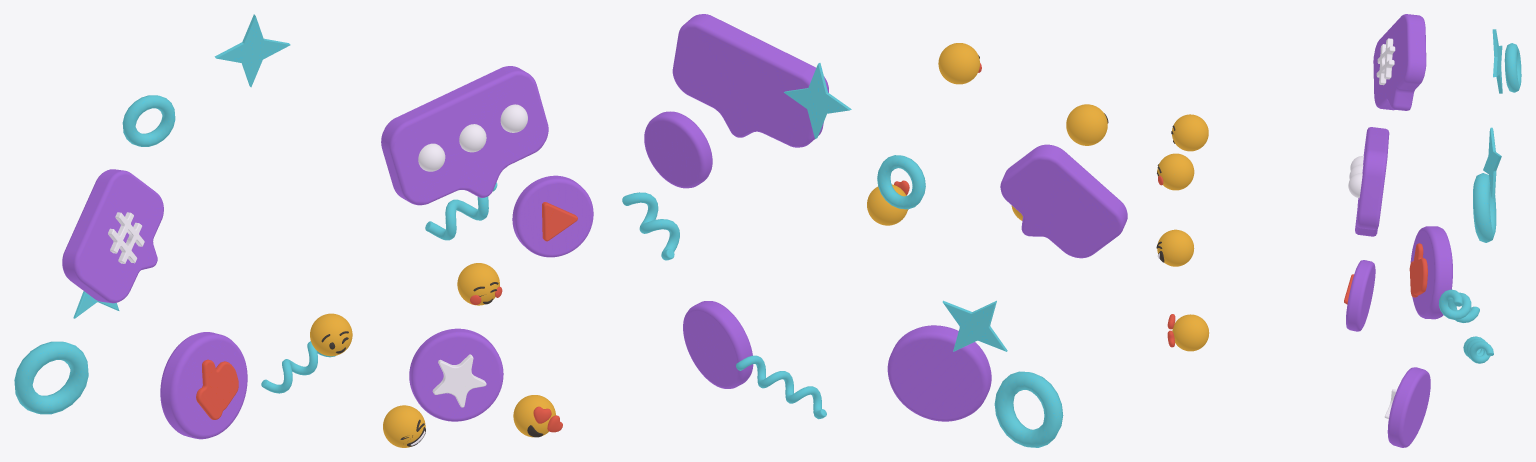
File: smileys-transformed.glb
3 views of the same model, side by side, from view 1: azimuth 30°, elevation 25°; view 2: azimuth 150°, elevation 25°; view 3: azimuth 270°, elevation 25° (orthographic). The views are drawn at different scales.
Parts seen in each view (by area): view 1: points, hash, Ellipse, star.001, play, torus, torus.001, Star 2, heart, blush, laugh, blink (+2 smaller); view 2: points, hash, Ellipse, star.001, play, torus, star, torus.001, Star 2, blush, blink, helix (+2 smaller); view 3: hash, Ellipse, points, star.001, play, torus, heart, blush, laugh, blink, helix.001, torus.001 (+3 smaller).
Boxes of the visible parts, bbox=[...] form: points: bbox=[381, 66, 548, 205]; hash: bbox=[62, 169, 163, 303]; Ellipse: bbox=[160, 332, 247, 439]; star.001: bbox=[409, 328, 503, 421]; play: bbox=[512, 175, 593, 257]; torus: bbox=[14, 341, 88, 414]; torus.001: bbox=[122, 95, 175, 146]; Star 2: bbox=[214, 14, 290, 87]; heart: bbox=[513, 395, 562, 437]; blush: bbox=[457, 263, 502, 305]; laugh: bbox=[383, 405, 425, 447]; blink: bbox=[310, 313, 352, 356]; points: bbox=[672, 14, 828, 147]; hash: bbox=[1000, 144, 1127, 258]; Ellipse: bbox=[887, 325, 991, 421]; star.001: bbox=[683, 301, 753, 388]; play: bbox=[644, 111, 712, 188]; torus: bbox=[994, 371, 1063, 447]; star: bbox=[942, 300, 1007, 351]; torus.001: bbox=[877, 155, 925, 209]; Star 2: bbox=[784, 63, 851, 138]; blush: bbox=[938, 43, 981, 84]; blink: bbox=[1066, 104, 1108, 145]; helix: bbox=[736, 355, 826, 419]; hash: bbox=[1373, 14, 1426, 110]; Ellipse: bbox=[1409, 226, 1452, 319]; points: bbox=[1348, 127, 1389, 236]; star.001: bbox=[1384, 367, 1430, 447]; play: bbox=[1344, 260, 1375, 331]; torus: bbox=[1473, 173, 1496, 242]; heart: bbox=[1167, 314, 1209, 351]; blush: bbox=[1157, 153, 1194, 190]; laugh: bbox=[1156, 229, 1194, 266]; blink: bbox=[1171, 114, 1208, 151]; helix.001: bbox=[1439, 289, 1479, 322]; torus.001: bbox=[1504, 43, 1521, 92].
Bounding box in the file's own units: 13.22 × 10.05 × 9.47.
1 material, 1 textured.
